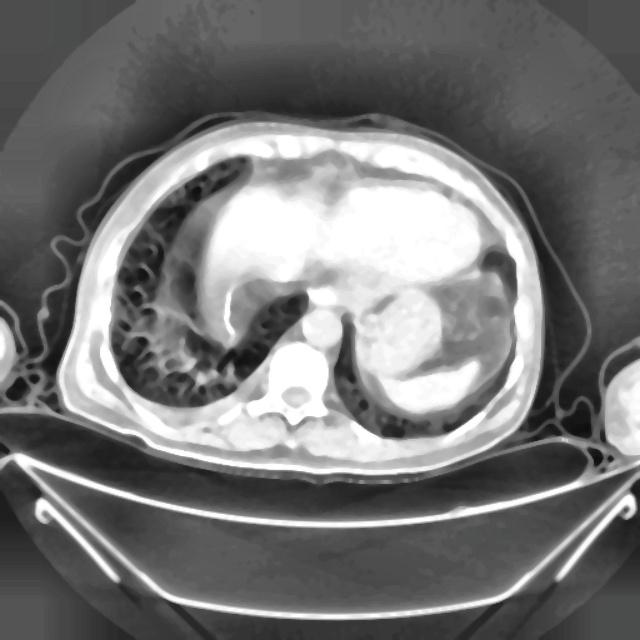covid: (54, 111, 548, 482)
